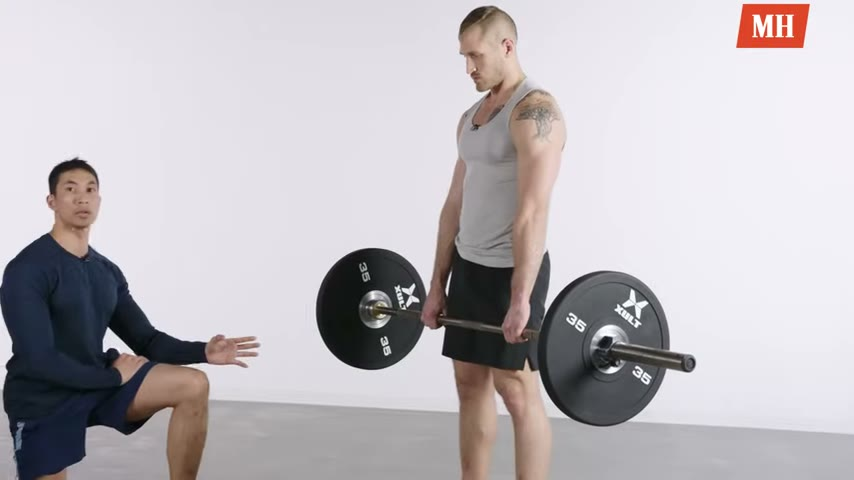barbell_plate_side: (590, 266, 699, 437), (311, 241, 404, 404)
